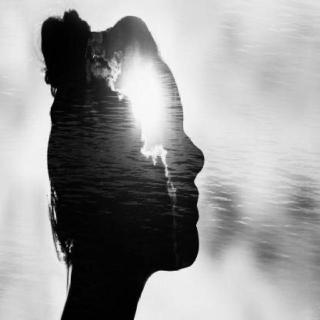other: (103, 40, 180, 176)
